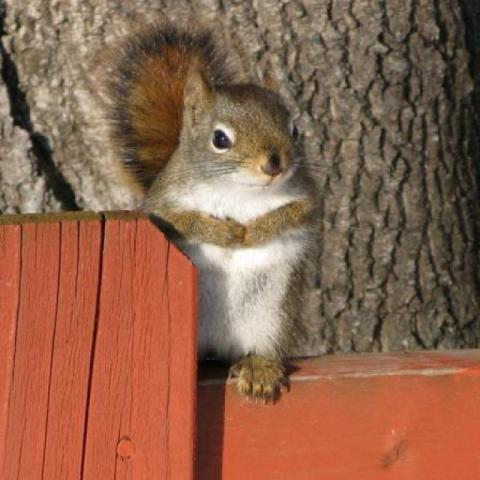small_animal: (97, 19, 326, 404)
